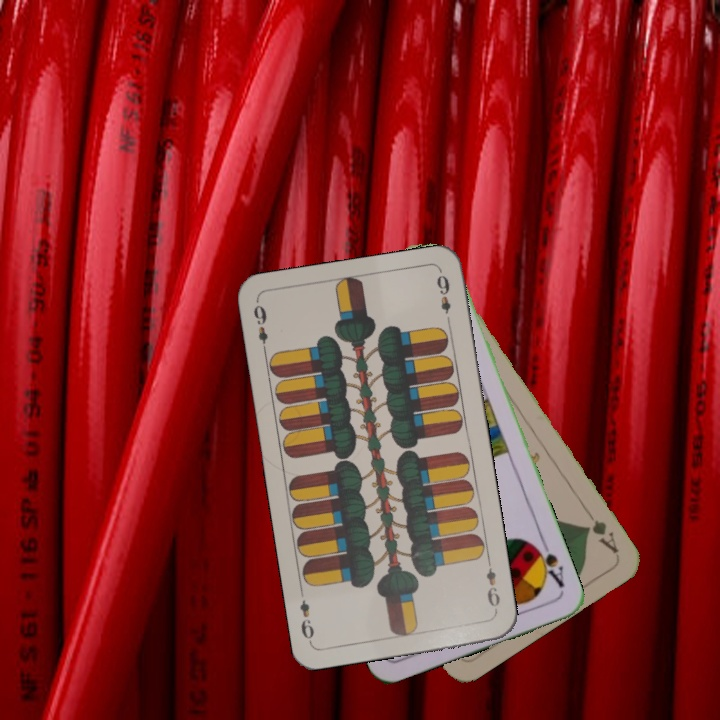E9: (482, 556, 503, 615), (249, 300, 270, 358)
GA: (581, 505, 622, 557)
SA: (529, 536, 567, 590)
